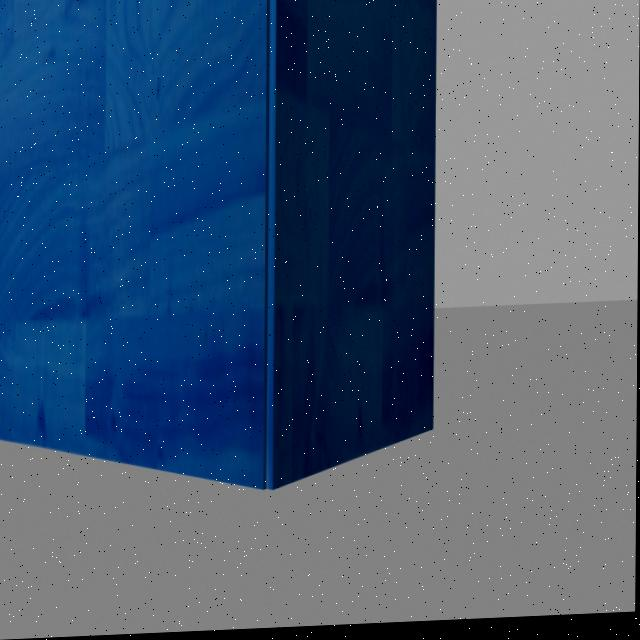shelf: (0, 0, 446, 553)
